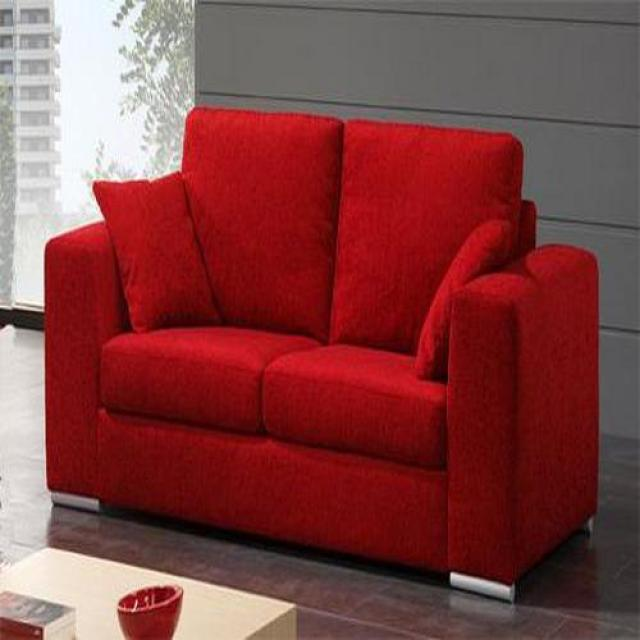sofa: (44, 108, 598, 596)
